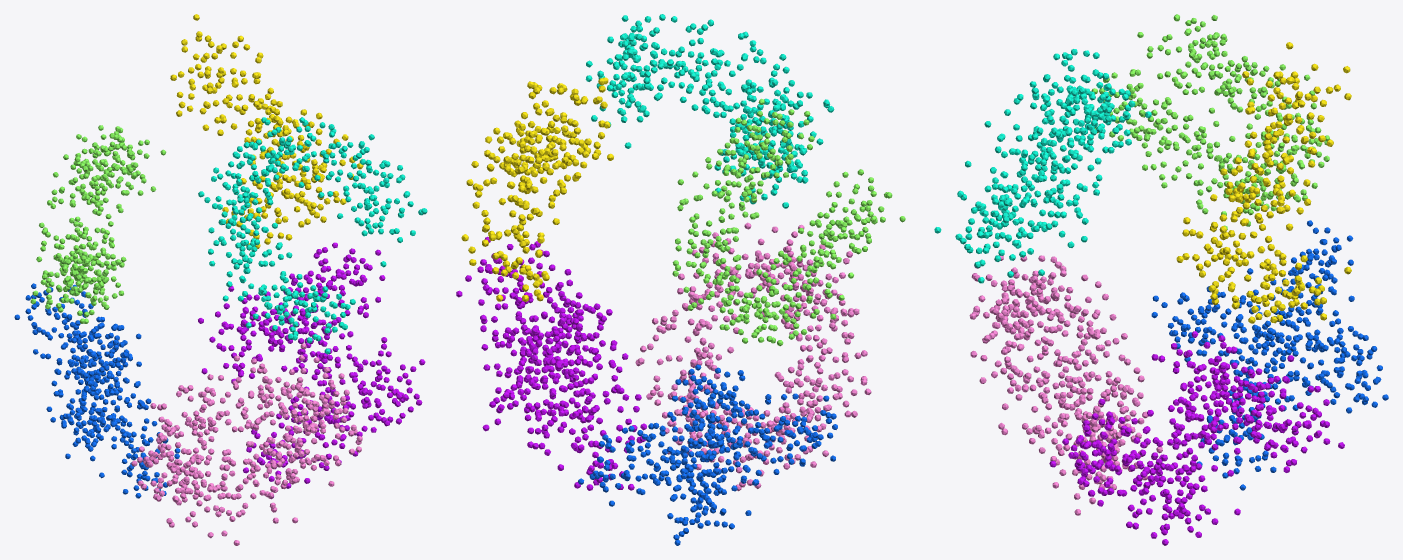
The picture shows the model from 3 angles, left to right: view 1: azimuth 30°, elevation 25°; view 2: azimuth 150°, elevation 25°; view 3: azimuth 270°, elevation 25°; orthographic projection. The views are drawn at different scales.
Parts seen in each view (by area): view 1: C; view 2: C; view 3: C.
Boxes of the visible parts, left/top/right/bottom form: C: left=14, top=14, right=427, bottom=545; C: left=456, top=14, right=905, bottom=545; C: left=934, top=14, right=1388, bottom=545.
Bounding box in the file's own units: 10.29 × 11.99 × 10.25.
1 material, 1 textured.
